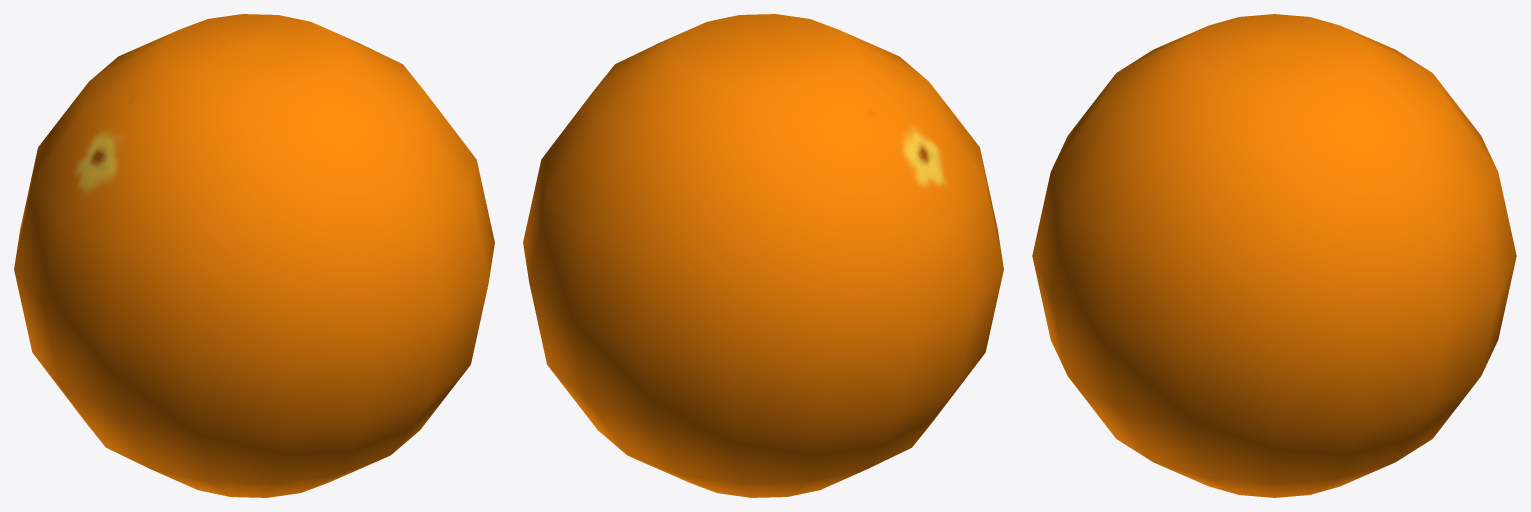
Rendered from Grapefruit.fbx.
The picture shows the model from 3 angles, left to right: view 1: azimuth 30°, elevation 25°; view 2: azimuth 150°, elevation 25°; view 3: azimuth 270°, elevation 25°; orthographic projection.
Visible parts, largest first — view 1: Grapefruit; view 2: Grapefruit; view 3: Grapefruit.
Boxes of the visible parts, x1,y1,x2,y2 form: Grapefruit: [14, 14, 494, 497]; Grapefruit: [523, 14, 1003, 497]; Grapefruit: [1032, 14, 1516, 497].
Bounding box in the file's own units: 351 × 344 × 351.
Materials: 1 (1 with a texture image).
